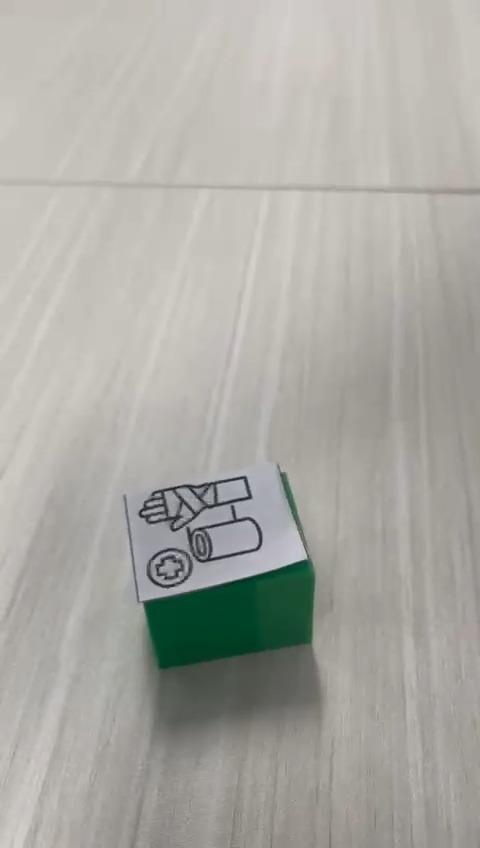Bandages: (123, 461, 317, 672)
